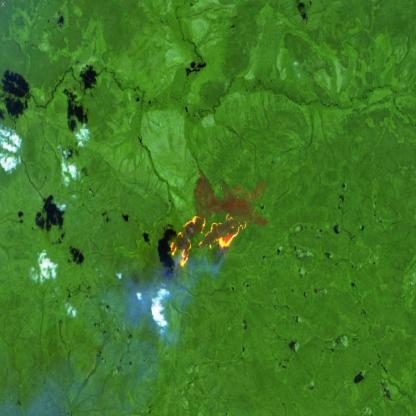fire: (167, 209, 249, 274)
